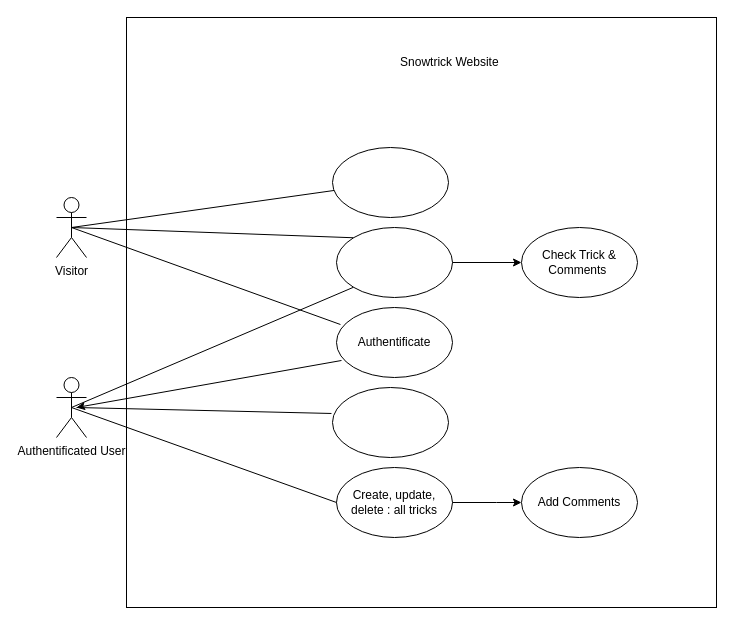
Some shapes in this 734 by 625 pixel diagram are drawn without their labels. The shapes that lost their labels are listed below. From the top down, each one's centre as x and y in pixels, then its label:
At (390,182): "Registering User".
At (394,262): "Check Trick list and Trick detail".
At (390,422): "Logout".
